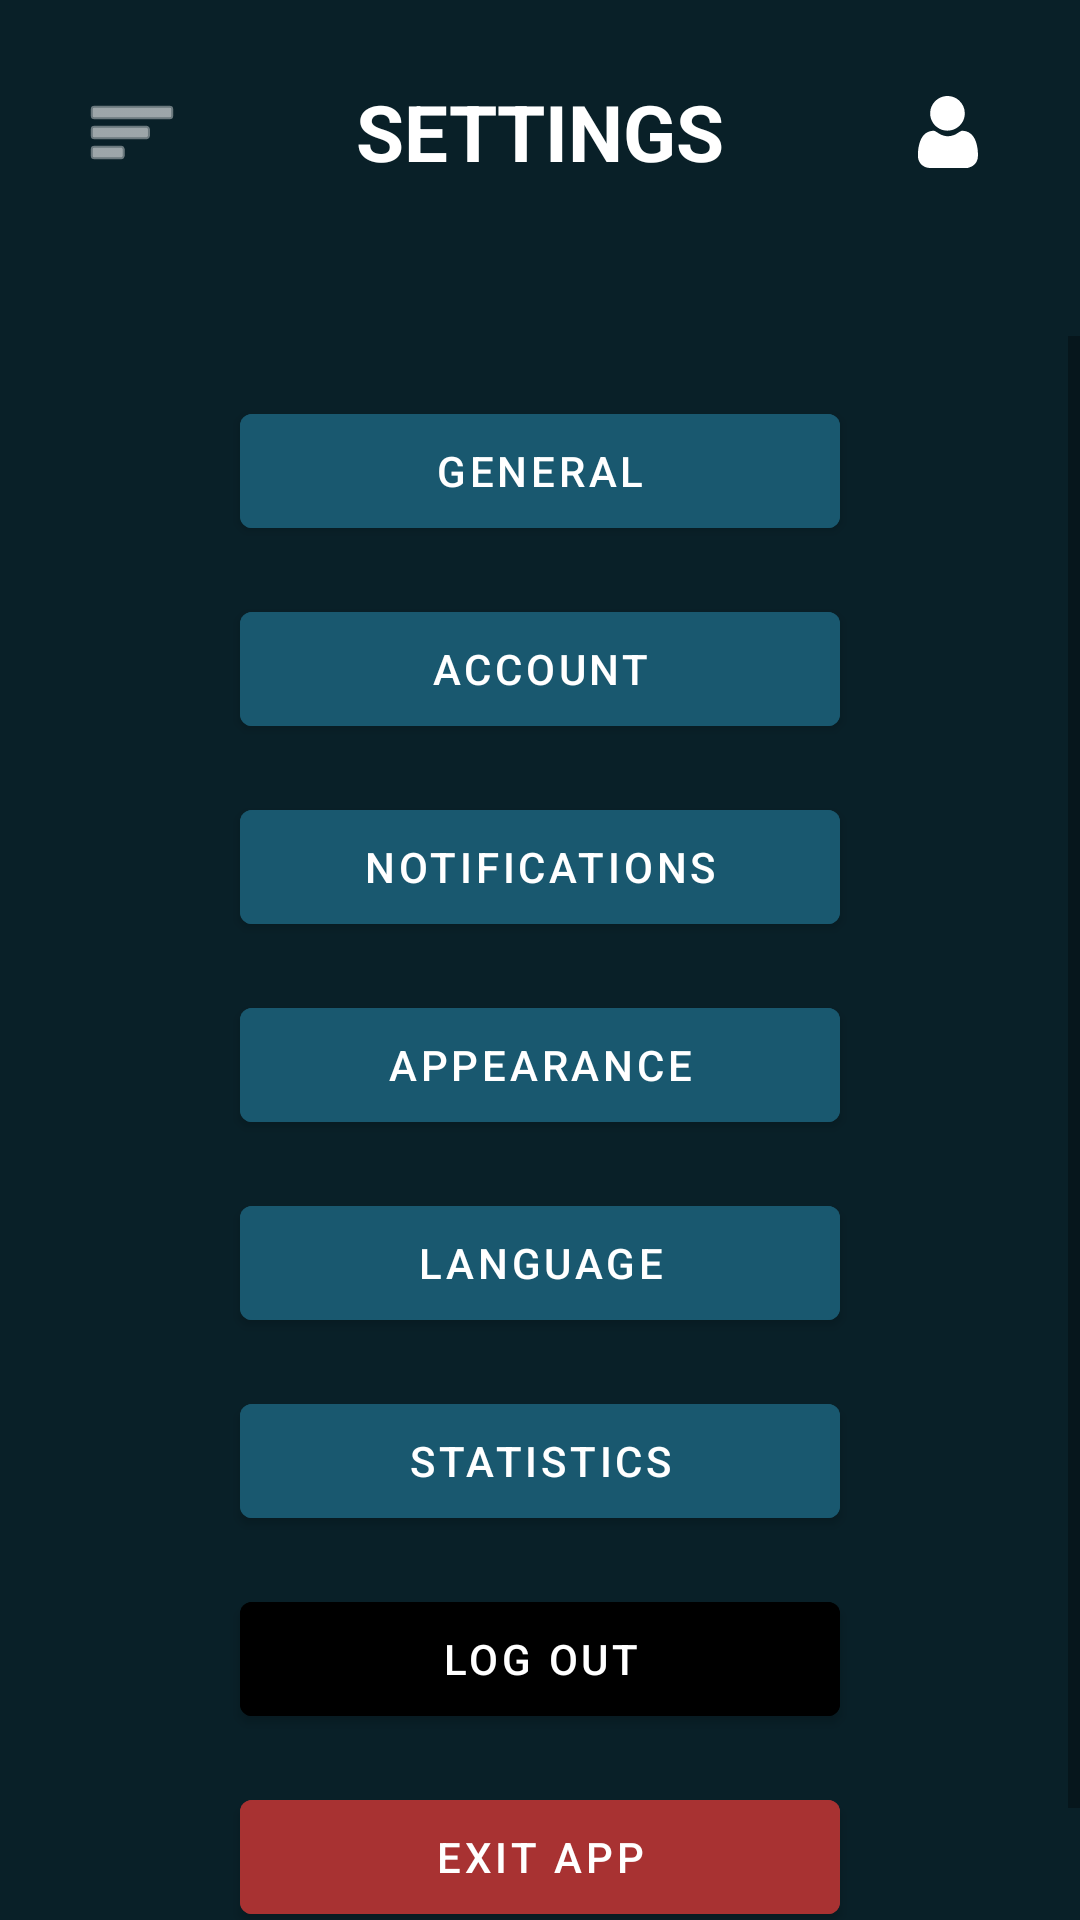

Named icons in this screenshot (1080x1920) and their bounding boxes, (x1, y1, x2, y2):
Open user profile: (918, 96, 978, 168)
